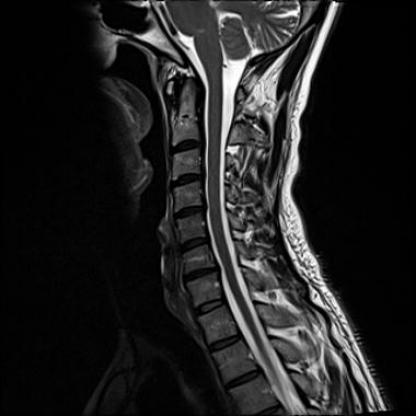Disc Bulgerotation: (173, 203, 206, 221), (183, 266, 220, 282)
